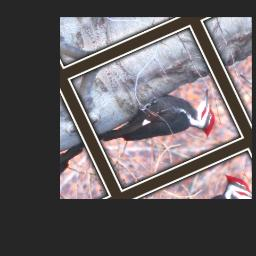Woodpecker: (89, 70, 227, 178)
